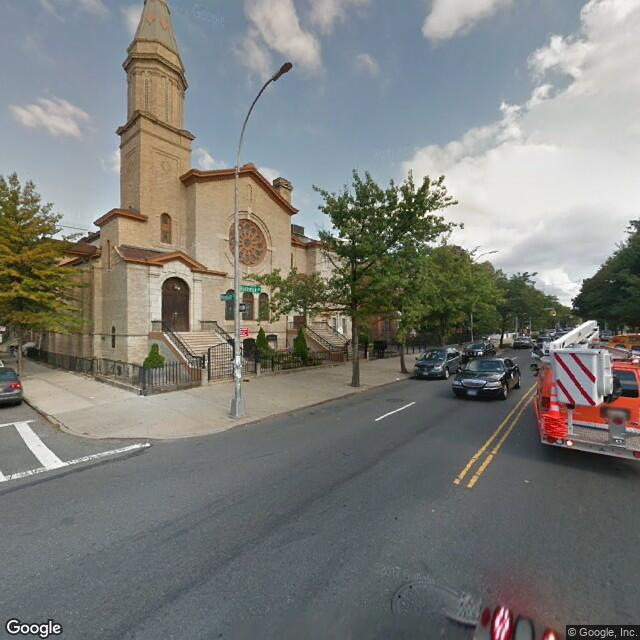litter: (390, 369, 413, 386)
